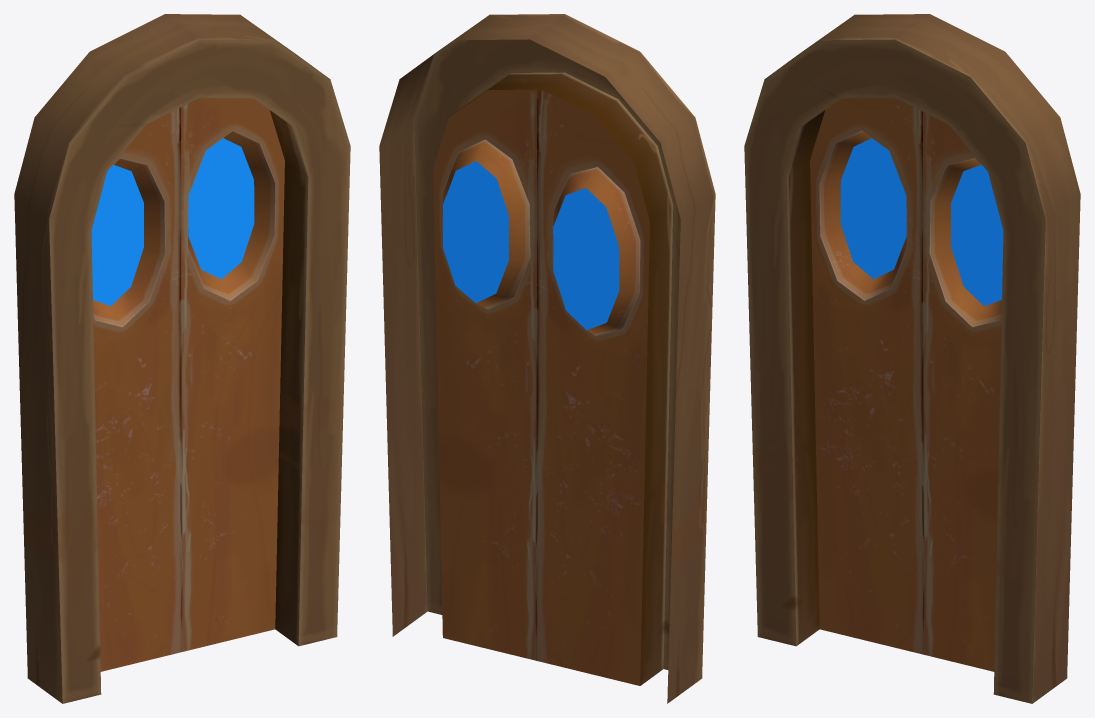
File: SM_door.fbx
3 views of the same model, side by side, from view 1: azimuth 30°, elevation 25°; view 2: azimuth 150°, elevation 25°; view 3: azimuth 330°, elevation 25° (orthographic).
Visible parts, largest first — view 1: floor_big.020; view 2: floor_big.020; view 3: floor_big.020.
Part boxes in pixels (x1,y1,x2,y2): floor_big.020: [14, 14, 350, 703]; floor_big.020: [379, 14, 715, 703]; floor_big.020: [744, 14, 1080, 703].
Bounding box in the file's own units: 100 × 200 × 20.
Materials: 3 (3 with a texture image).
